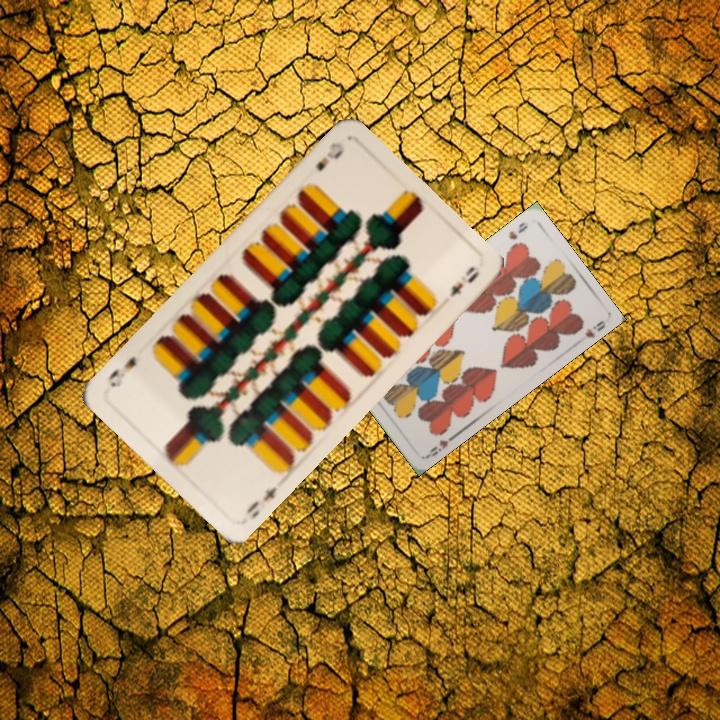E9: (242, 483, 280, 523), (312, 138, 347, 174)
H9: (423, 431, 458, 460), (504, 218, 530, 243)
